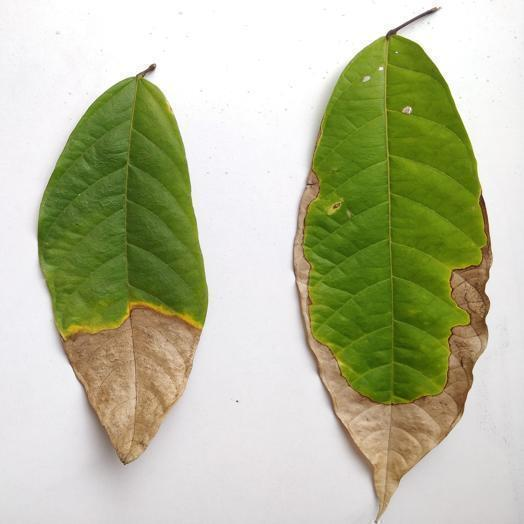Potassium: (294, 9, 491, 513), (39, 64, 207, 463)
